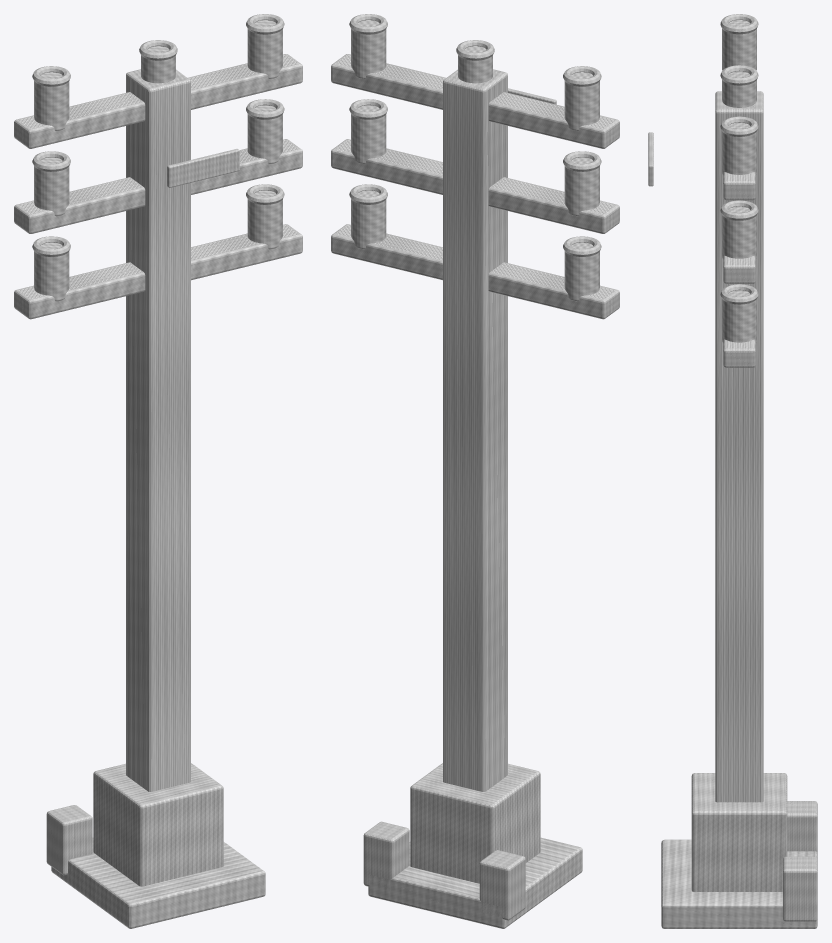
File: power_pole_variant_d.glb
3 views of the same model, side by side, from view 1: azimuth 30°, elevation 25°; view 2: azimuth 150°, elevation 25°; view 3: azimuth 270°, elevation 25° (orthographic).
Parts seen in each view (by area): view 1: Mast.003, Pole base.003, Foundation.003, Crossarm, Crossarm.010, Crossarm.011, Service foot.006, Asset ID plate, Insulator.027, Insulator.030, Insulator.033, Insulator.035 (+3 smaller); view 2: Mast.003, Pole base.003, Foundation.003, Crossarm, Crossarm.011, Crossarm.010, Service foot.006, Service foot.007, Insulator.027, Insulator.030, Insulator.033, Insulator.035 (+3 smaller); view 3: Mast.003, Pole base.003, Foundation.003, Service foot.007, Service foot.006, Insulator.029, Insulator.032, Insulator.035, Insulator.033, Insulator.034, Crossarm, Crossarm.010 (+6 smaller).
Boxes of the visible parts, bbox=[...] form: Mast.003: bbox=[126, 69, 190, 791]; Pole base.003: bbox=[93, 763, 223, 886]; Foundation.003: bbox=[51, 838, 265, 928]; Crossarm: bbox=[14, 54, 302, 148]; Crossarm.010: bbox=[14, 224, 302, 319]; Crossarm.011: bbox=[14, 139, 302, 233]; Service foot.006: bbox=[46, 805, 92, 875]; Asset ID plate: bbox=[167, 149, 239, 187]; Insulator.027: bbox=[34, 242, 69, 301]; Insulator.030: bbox=[34, 157, 69, 216]; Insulator.033: bbox=[34, 72, 69, 130]; Insulator.035: bbox=[247, 20, 282, 78]; Mast.003: bbox=[443, 69, 507, 791]; Pole base.003: bbox=[410, 763, 540, 883]; Foundation.003: bbox=[368, 837, 582, 928]; Crossarm: bbox=[331, 54, 619, 148]; Crossarm.011: bbox=[331, 139, 619, 233]; Crossarm.010: bbox=[331, 224, 619, 319]; Service foot.006: bbox=[479, 850, 525, 920]; Service foot.007: bbox=[363, 821, 409, 889]; Insulator.027: bbox=[564, 242, 599, 301]; Insulator.030: bbox=[564, 157, 599, 216]; Insulator.033: bbox=[564, 72, 599, 130]; Insulator.035: bbox=[351, 20, 386, 78]; Mast.003: bbox=[715, 91, 763, 802]; Pole base.003: bbox=[691, 773, 787, 891]; Foundation.003: bbox=[661, 839, 817, 928]; Service foot.007: bbox=[783, 856, 817, 921]; Service foot.006: bbox=[787, 801, 817, 852]; Insulator.029: bbox=[722, 290, 756, 342]; Insulator.032: bbox=[722, 206, 756, 258]; Insulator.035: bbox=[722, 122, 756, 174]; Insulator.033: bbox=[722, 20, 756, 70]; Insulator.034: bbox=[722, 71, 756, 107]; Crossarm: bbox=[723, 172, 755, 200]; Crossarm.010: bbox=[723, 339, 755, 367].
Size of what is drawn, in the model's own units: 2.7 by 7.88 by 1.46.
6 materials, 6 textured.
